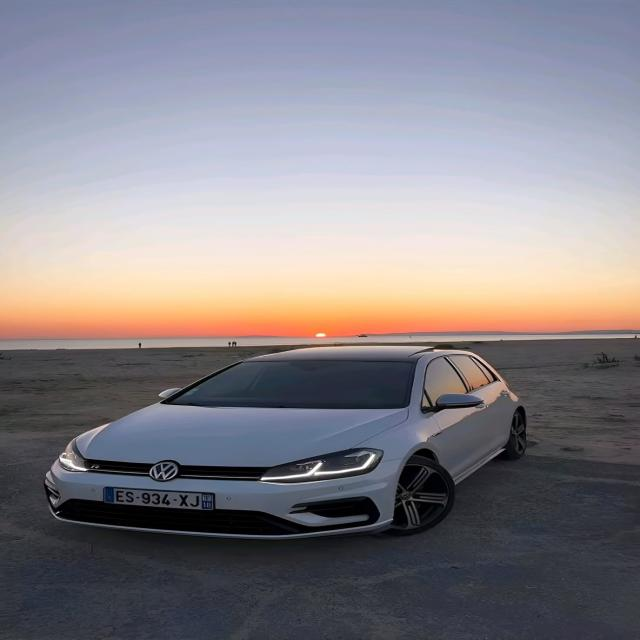Placas: (101, 485, 216, 512)
